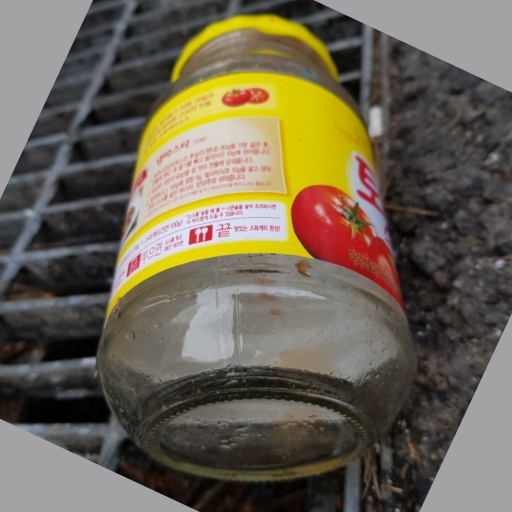Glass_5: (98, 17, 419, 479)
